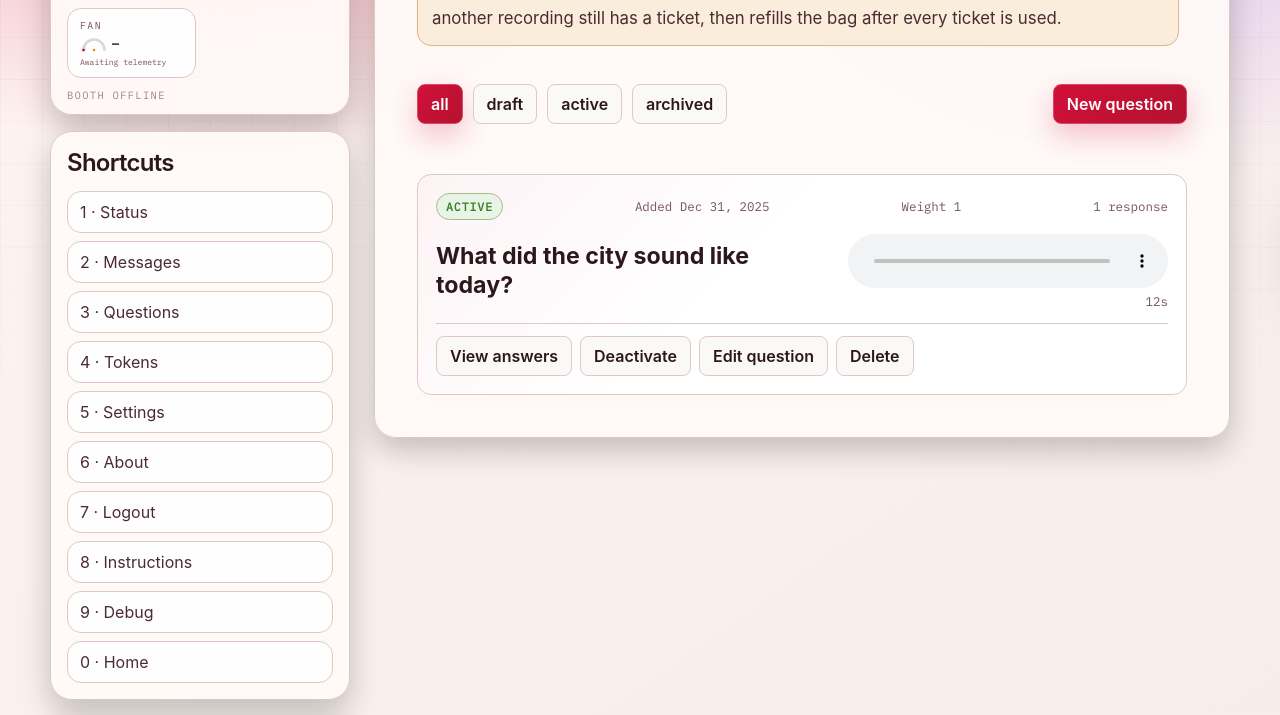
Questions feature › shows the delete confirmation
The image size is (1280, 715).
(page scrolled)
Click the button "Delete" at (875, 356), box [836, 336, 914, 376]
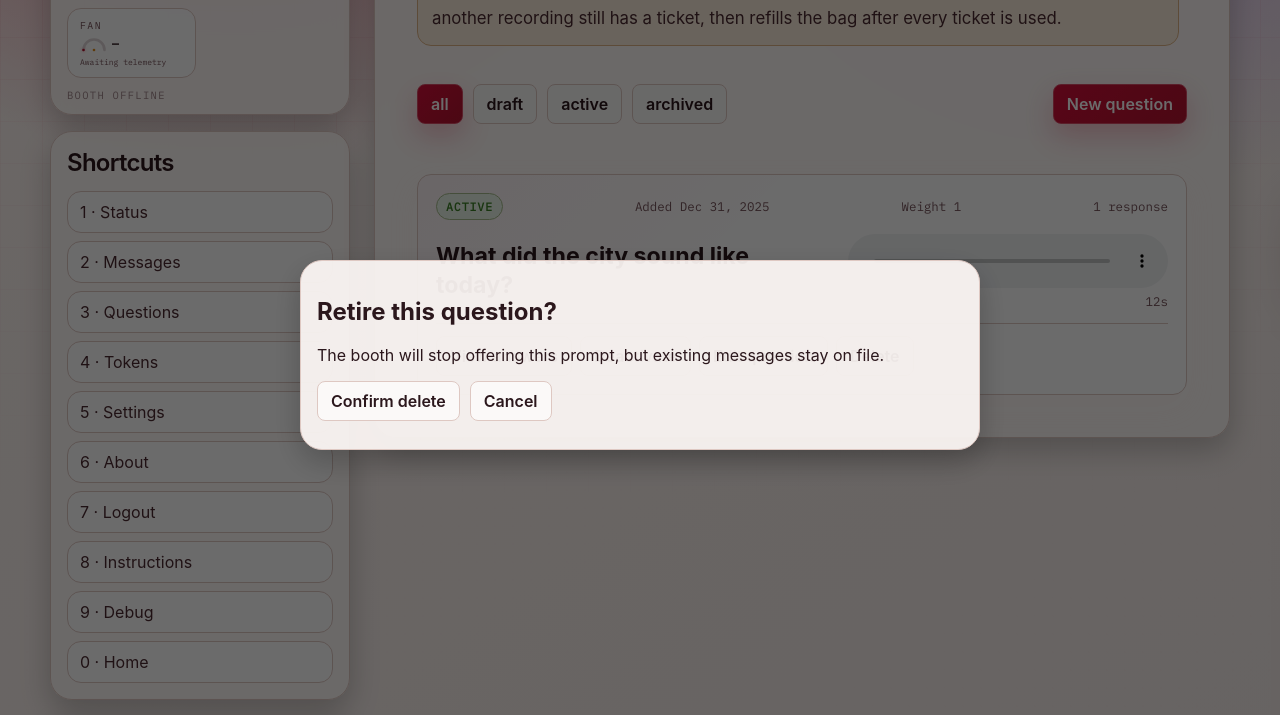
Expected: the heading "Retire this question?" is shown, [317, 296, 557, 326]
